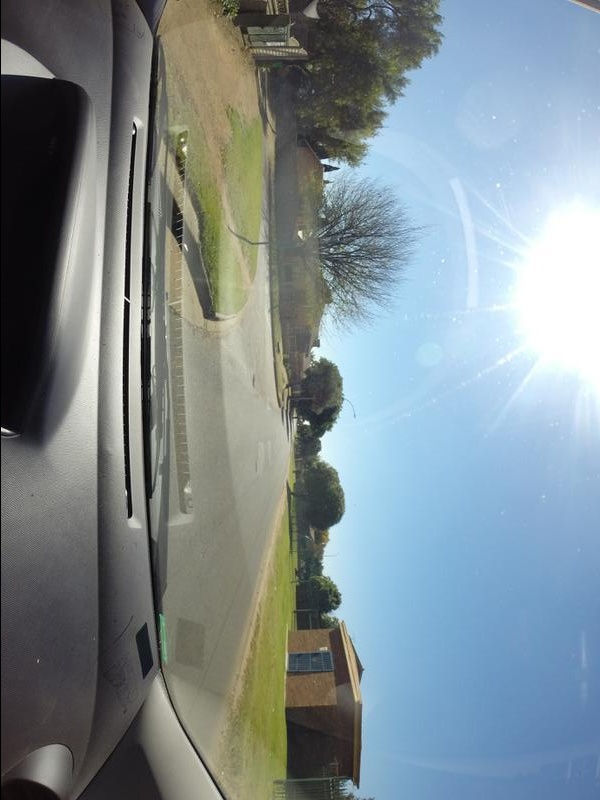pothole: (248, 378, 258, 392), (253, 461, 258, 476)
